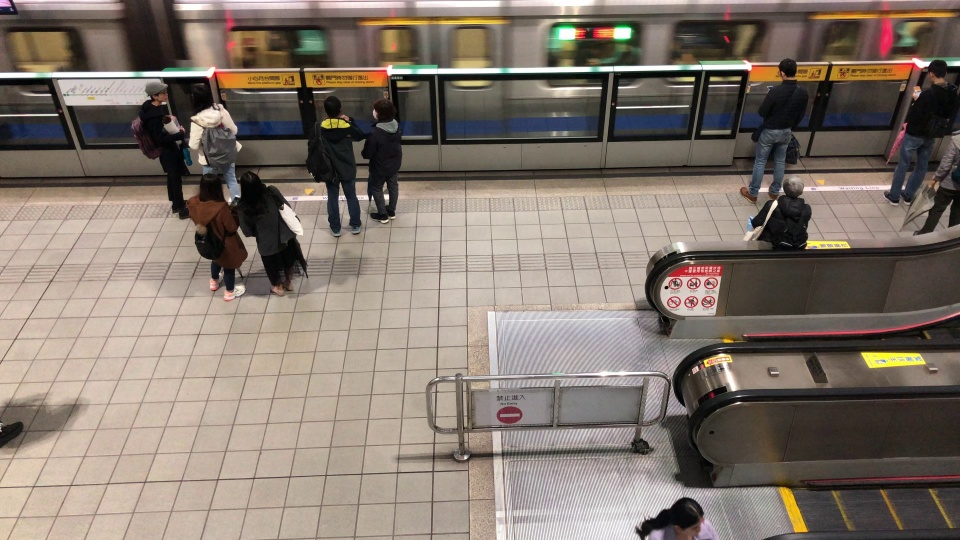person_head: (670, 497, 705, 538), (195, 172, 226, 204), (238, 172, 267, 203), (370, 97, 395, 125), (141, 80, 169, 104), (924, 58, 948, 86), (777, 57, 800, 86), (191, 84, 213, 112), (319, 95, 343, 120), (780, 176, 806, 199)
person_vbox: (875, 58, 960, 206), (734, 57, 809, 203), (227, 172, 313, 298), (297, 94, 369, 237), (127, 79, 197, 220), (180, 172, 254, 301), (181, 84, 246, 202), (899, 117, 960, 238), (359, 97, 408, 224), (738, 176, 813, 252), (639, 496, 720, 540)
